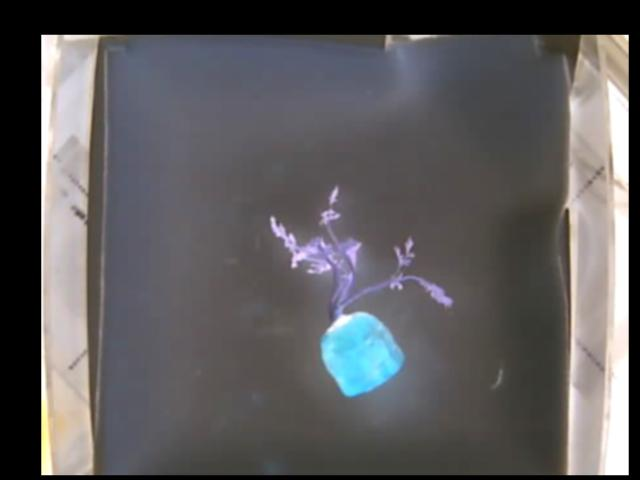Carrot: (269, 186, 452, 397)
